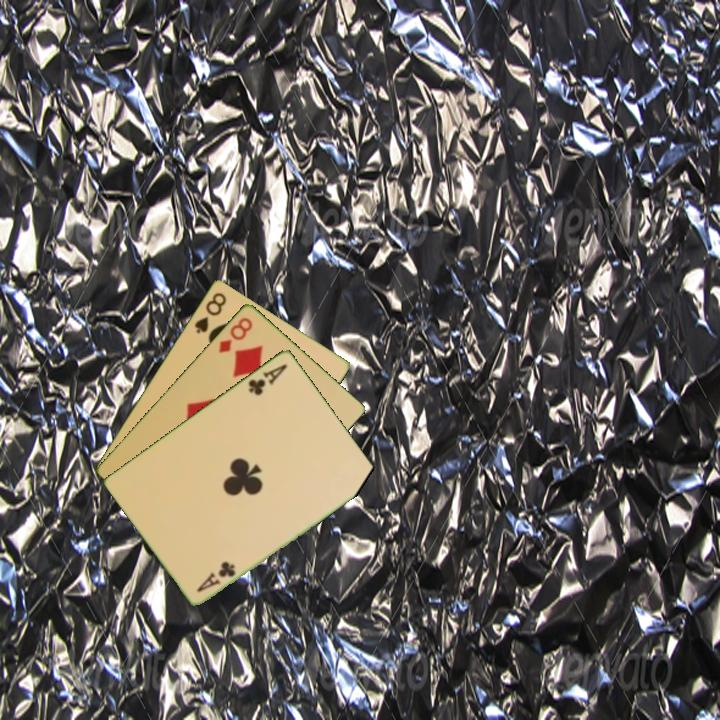8d: (215, 313, 255, 356)
8s: (191, 289, 229, 336)
Ac: (193, 557, 239, 595), (245, 360, 290, 398)
